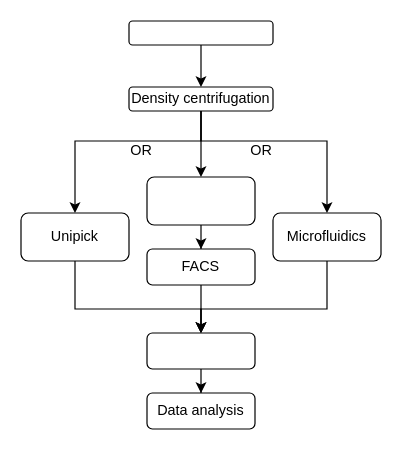
This 402x450 diagram has some shape labels left out. Here are the shapes that lost their labels. From the top down, the centre of each, then its label:
pixel 200 32: Sample collection
pixel 200 200: MACS (optional)
pixel 200 350: Sequencing
